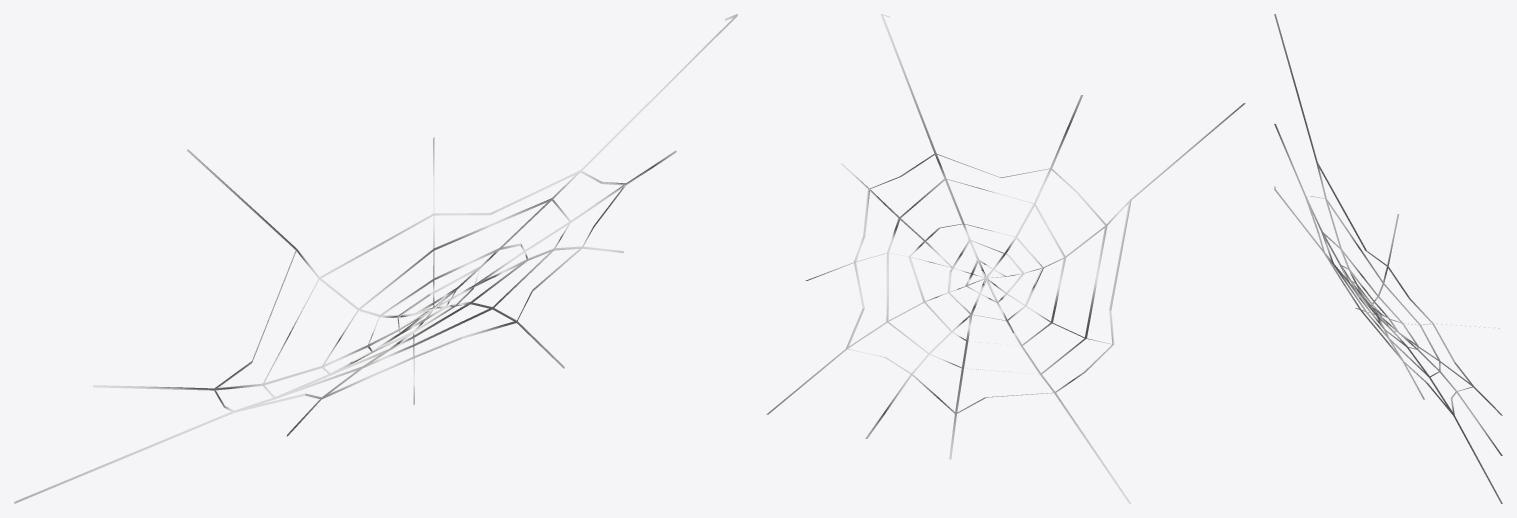
File: HWN20_Spider_Net_02.glb
3 renders of one model, left to right at view 1: azimuth 30°, elevation 25°; view 2: azimuth 150°, elevation 25°; view 3: azimuth 270°, elevation 25°, orthographic. The views are drawn at different scales.
Visible parts, largest first — view 1: HWN20_Spider_Net_02; view 2: HWN20_Spider_Net_02; view 3: HWN20_Spider_Net_02.
Boxes of the visible parts, x1,y1,x2,y2 form: HWN20_Spider_Net_02: (14, 14, 737, 503); HWN20_Spider_Net_02: (766, 14, 1245, 503); HWN20_Spider_Net_02: (1274, 14, 1502, 503).
Bounding box in the file's own units: 0.6485 × 0.5405 × 0.3549.
1 material, 1 textured.
